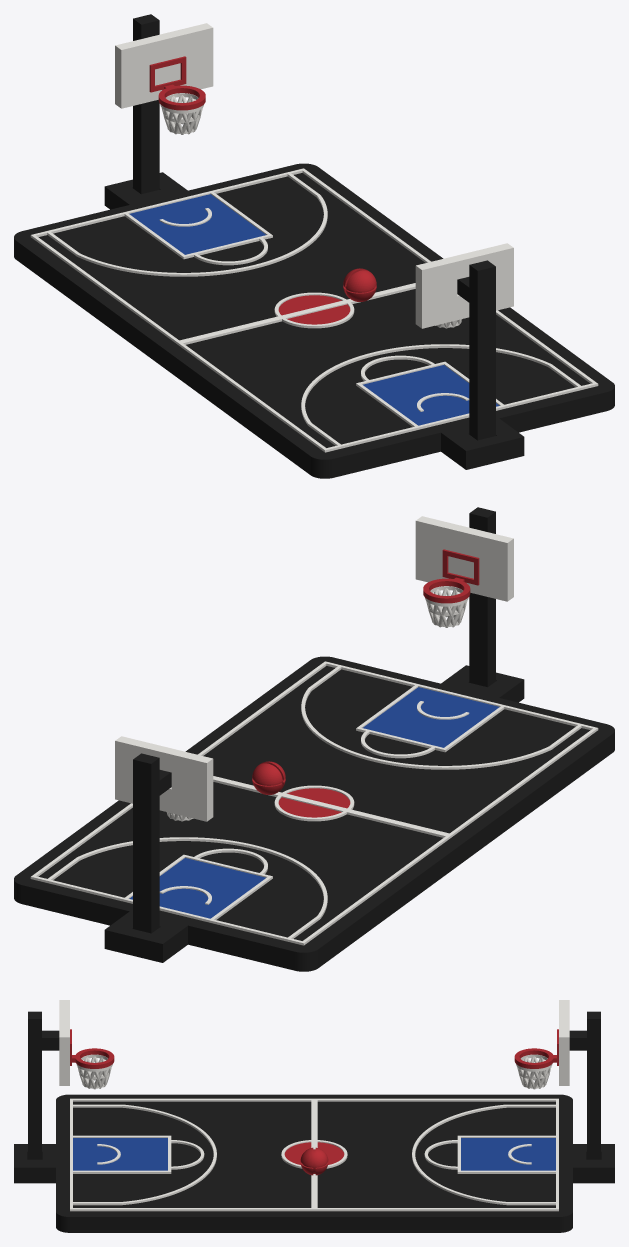
The picture shows the model from 3 angles, top to bottom: view 1: azimuth 30°, elevation 25°; view 2: azimuth 150°, elevation 25°; view 3: azimuth 270°, elevation 25°; orthographic projection. The views are drawn at different scales.
Visible parts, largest first — view 1: black_floor, white_lines, white_board, blue_key, black_support, red_centre, white_net, red_ball, red_rim, red_square; view 2: black_floor, white_lines, white_board, blue_key, black_support, red_centre, white_net, red_ball, red_rim, red_square; view 3: black_floor, white_lines, blue_key, black_support, white_board, white_net, red_rim, red_centre, red_ball.
Boxes of the visible parts, x1,y1,x2,y2 form: black_floor: (14,163,614,478); white_lines: (30,168,598,452); white_board: (115,23,513,328); blue_key: (129,194,499,425); black_support: (133,14,495,440); red_centre: (278,295,350,324); white_net: (160,93,462,328); red_ball: (343,268,376,301); red_rim: (158,84,205,110); red_square: (149,56,186,92); black_floor: (14,656,614,971); white_lines: (30,661,598,945); white_board: (115,516,513,821); blue_key: (129,687,499,918); black_support: (133,507,495,933); red_centre: (278,788,350,817); white_net: (166,586,468,821); red_ball: (252,761,285,794); red_rim: (423,577,470,603); red_square: (442,549,479,585); black_floor: (14,1094,614,1232); white_lines: (70,1098,558,1211); blue_key: (73,1138,555,1170); black_support: (28,1011,600,1159); white_board: (59,1000,569,1085); white_net: (76,1054,552,1089); red_rim: (72,1048,556,1068); red_centre: (284,1142,344,1164); red_ball: (300,1147,328,1175).
Size of the model in its own units: 0.083 by 0.0494 by 0.172.
